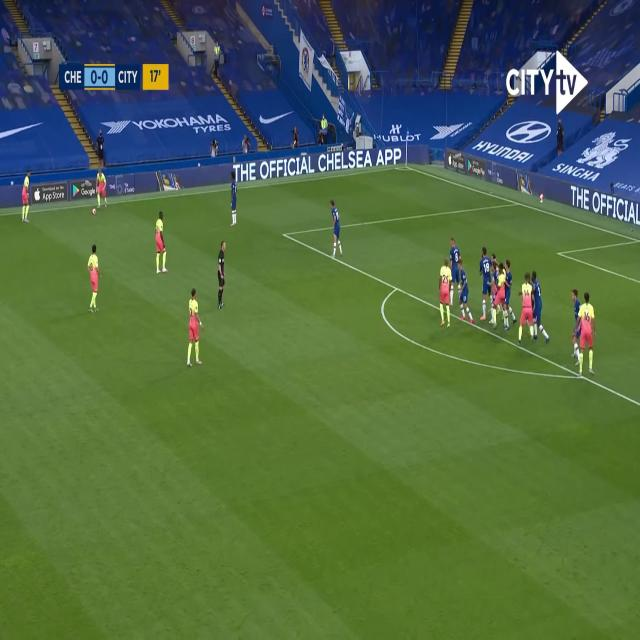ball: (92, 207, 96, 216)
team1: (457, 256, 473, 330), (532, 274, 548, 340), (568, 284, 580, 364), (227, 165, 239, 238), (480, 241, 490, 321), (329, 200, 343, 256), (505, 258, 515, 328)
team2: (580, 288, 596, 376), (186, 287, 203, 369), (436, 259, 454, 328), (85, 245, 101, 314), (520, 271, 532, 344), (154, 213, 168, 275), (496, 263, 507, 330), (22, 170, 31, 225), (97, 170, 107, 209), (490, 250, 496, 303)
